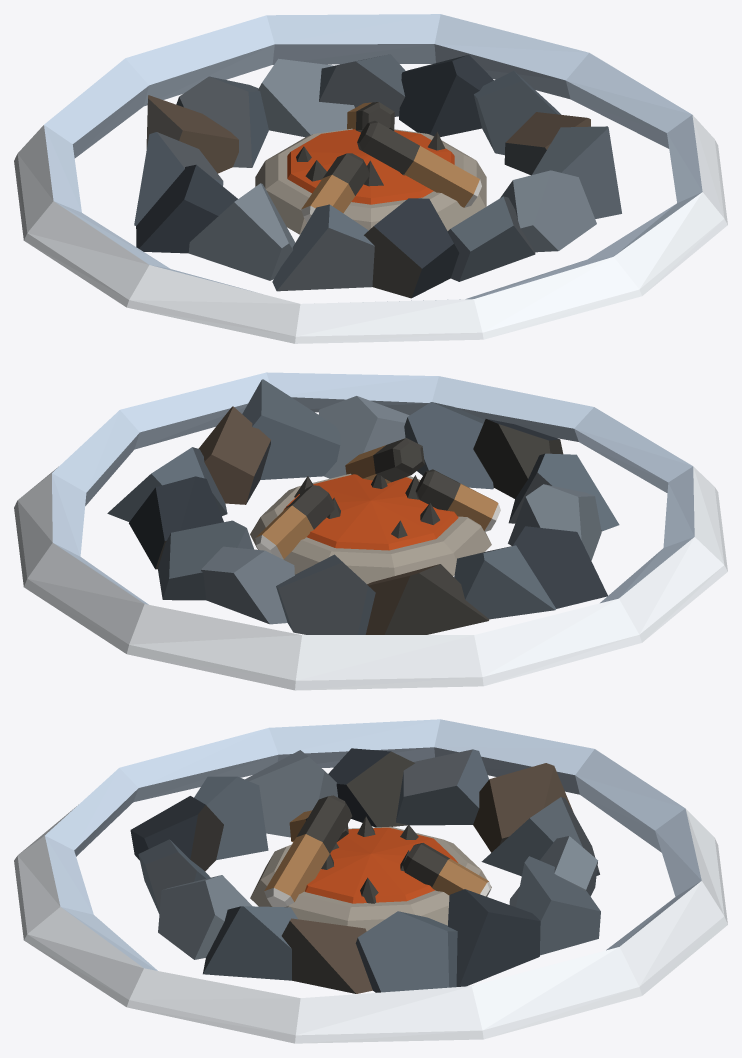
Rendered from Fogata_apagada.glb.
3 renders of one model, top to bottom at view 1: azimuth 30°, elevation 25°; view 2: azimuth 150°, elevation 25°; view 3: azimuth 270°, elevation 25°, orthographic.
Parts seen in each view (by area): view 1: Fogata Apagada; view 2: Fogata Apagada; view 3: Fogata Apagada.
Part boxes in pixels (x1,y1,x2,y2): Fogata Apagada: (14,14,727,343); Fogata Apagada: (14,372,727,690); Fogata Apagada: (14,719,727,1043).
Size of the model in its own units: 0.6789 by 0.0941 by 0.6789.
